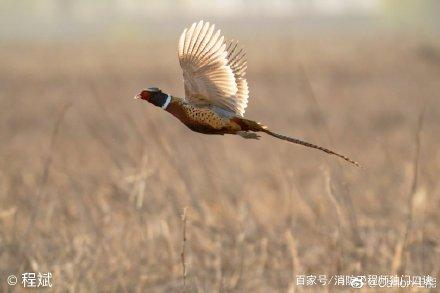bird: (133, 17, 367, 171)
